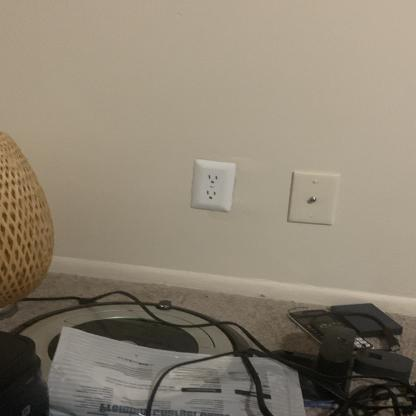OUTLET: (191, 159, 233, 209)
